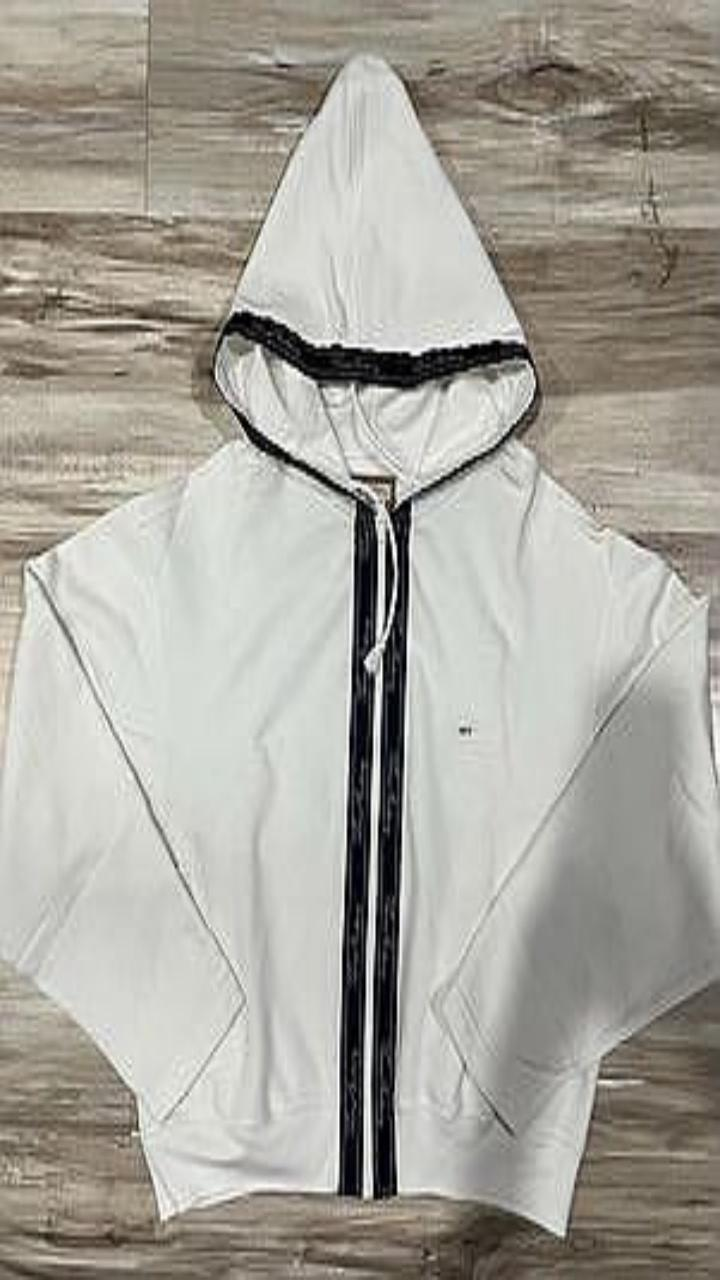Hoodie: (0, 53, 719, 1234)
